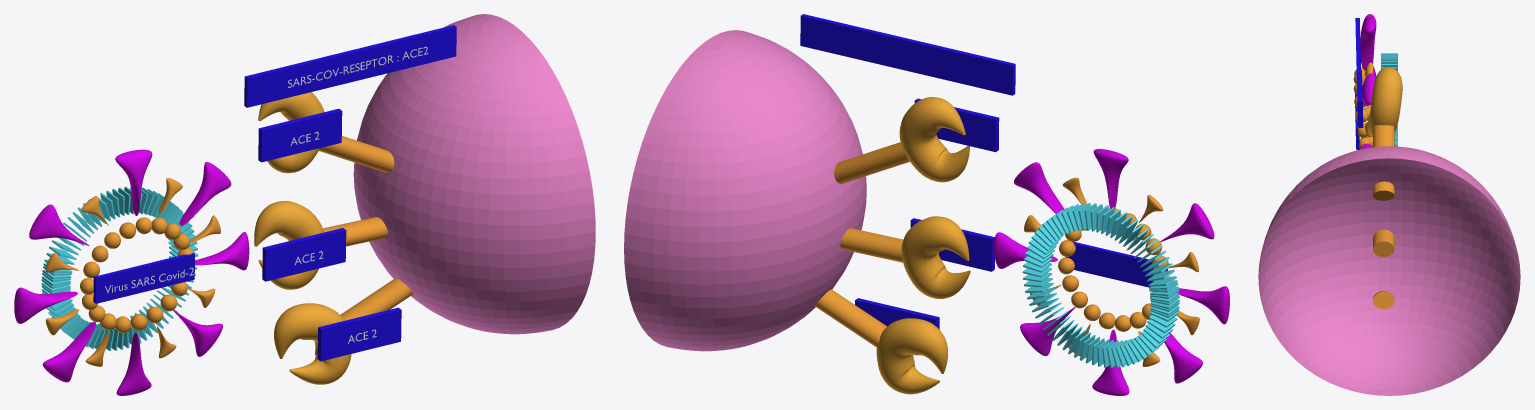
The model's file is asu.glb.
3 views of the same model, side by side, from view 1: azimuth 30°, elevation 25°; view 2: azimuth 150°, elevation 25°; view 3: azimuth 270°, elevation 25° (orthographic). The views are drawn at different scales.
Parts seen in each view (by area): view 1: Sphere.001, Cube.018, Cube.017, Sphere, NurbsPath.012, Cube.020, Cube.019, Cube.021, Cube.023, NurbsPath.013, NurbsPath.014, Cylinder.016 (+11 smaller); view 2: Sphere.001, Cube.017, Cube.018, NurbsPath.014, NurbsPath.013, NurbsPath.012, Sphere, Cube.023, Cylinder.014, Cube.019, Cylinder.016, Cylinder.015 (+10 smaller); view 3: Sphere.001, NurbsPath.014, Cylinder.016, Cube.022, Cube.018, Cylinder.015, Sphere, Cube.017, Cylinder.014, Cube.005.
Part boxes in pixels (x1,y1,x2,y2): Sphere.001: (353, 14, 595, 334); Cube.018: (244, 25, 456, 107); Cube.017: (41, 186, 198, 350); Sphere: (80, 217, 193, 332); NurbsPath.012: (274, 303, 351, 384); Cube.020: (262, 228, 346, 281); Cube.019: (258, 108, 342, 162); Cube.021: (317, 307, 401, 361); Cube.023: (93, 253, 194, 303); NurbsPath.013: (254, 201, 323, 289); NurbsPath.014: (258, 92, 324, 173); Cylinder.016: (319, 136, 394, 172); Sphere.001: (624, 30, 866, 351); Cube.017: (1022, 203, 1179, 367); Cube.018: (800, 14, 1015, 95); NurbsPath.014: (899, 97, 969, 182); NurbsPath.013: (901, 216, 970, 299); NurbsPath.012: (876, 318, 947, 394); Sphere: (1058, 208, 1168, 331); Cube.023: (1065, 241, 1167, 287); Cylinder.014: (815, 289, 900, 359); Cube.019: (914, 98, 999, 152); Cylinder.016: (834, 142, 909, 183); Cylinder.015: (840, 228, 938, 263); Sphere.001: (1258, 146, 1520, 395); NurbsPath.014: (1367, 67, 1402, 136); Cylinder.016: (1373, 125, 1394, 200); Cube.022: (1360, 16, 1376, 70); Cube.018: (1355, 18, 1362, 125); Cylinder.015: (1373, 229, 1394, 256); Sphere: (1353, 67, 1372, 149); Cube.017: (1381, 53, 1397, 146); Cylinder.014: (1373, 290, 1394, 309); Cube.005: (1362, 73, 1375, 105).
Bounding box in the file's own units: 10.29 × 6.53 × 5.66.
